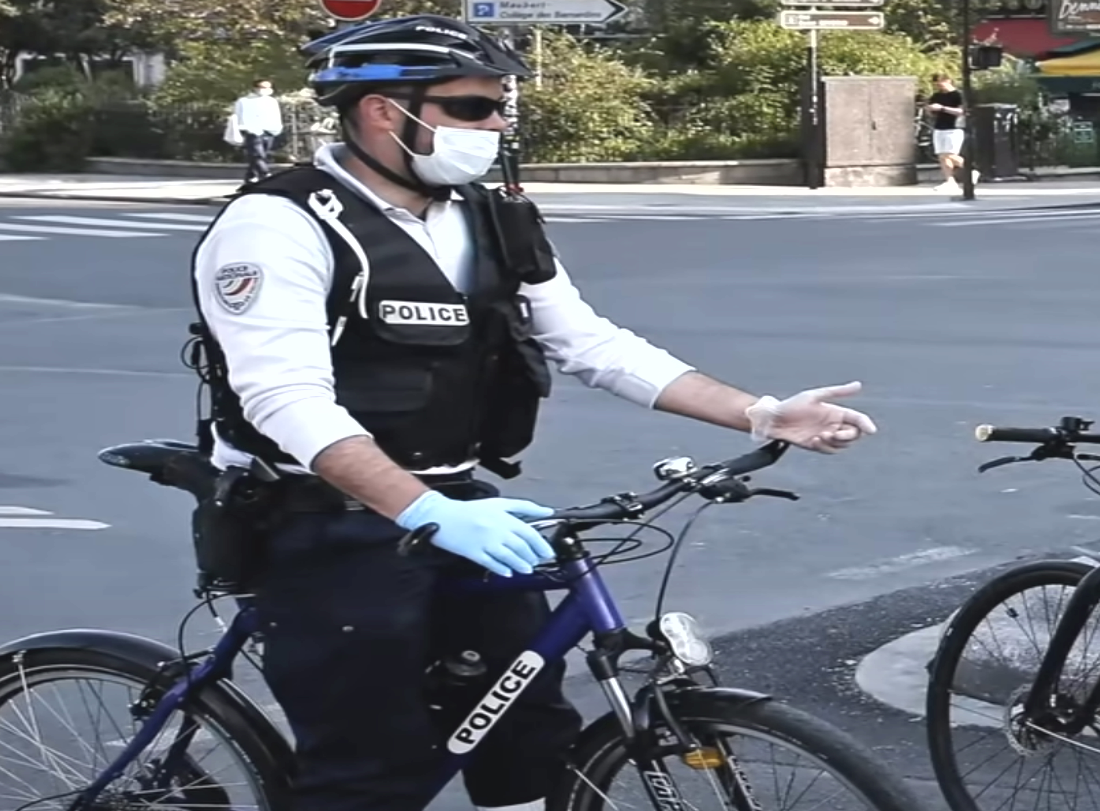mask_weared_incorrect: (320, 22, 517, 196)
